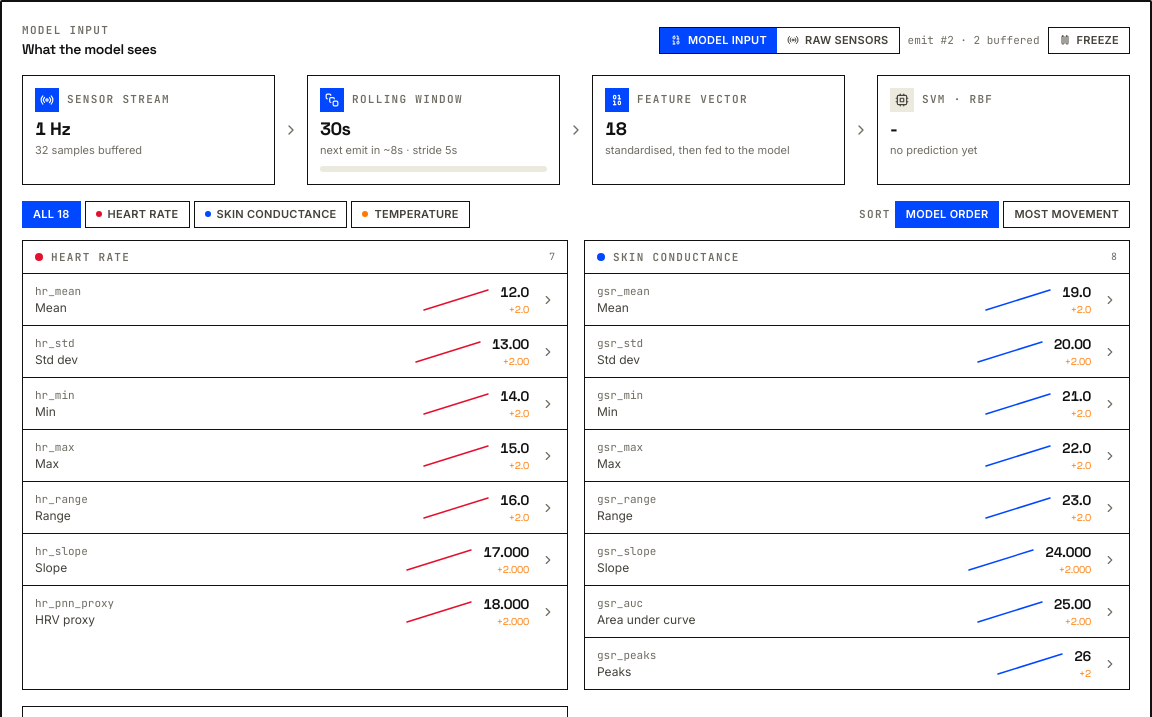
it: ModelInputPanel › expands a feature to reveal its description
Click the button "gsr_peaks Peaks 26 +2" at (627, 655), box x1=585 y1=638 x2=1129 y2=689
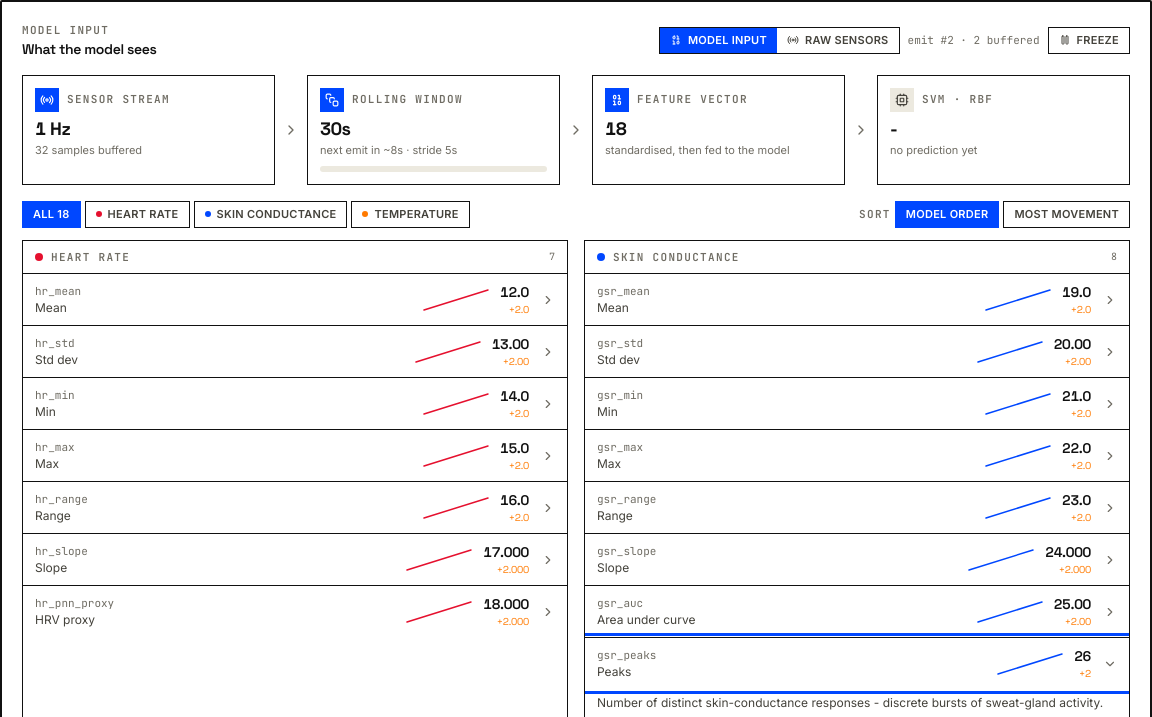
Now the button "gsr_peaks Peaks 26 +2" is expanded, box x1=585 y1=638 x2=1129 y2=689
Now the text "Number of distinct skin-conductance responses" is shown, box x1=597 y1=695 x2=1103 y2=710
